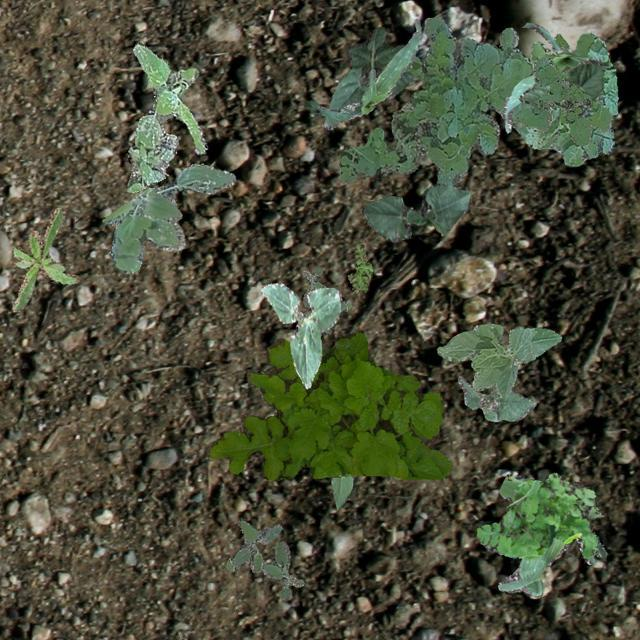crop: (496, 472, 606, 594), (302, 18, 420, 120), (504, 22, 608, 132), (324, 26, 416, 128), (436, 322, 560, 397), (260, 282, 340, 388), (360, 182, 470, 240), (518, 60, 604, 104), (456, 374, 534, 420), (330, 472, 352, 508)
weed: (338, 15, 618, 186), (208, 330, 450, 480), (102, 162, 235, 272), (127, 42, 206, 192), (476, 472, 596, 558), (511, 56, 612, 144), (12, 207, 78, 310), (225, 518, 302, 598), (302, 266, 351, 334), (346, 240, 372, 292)
